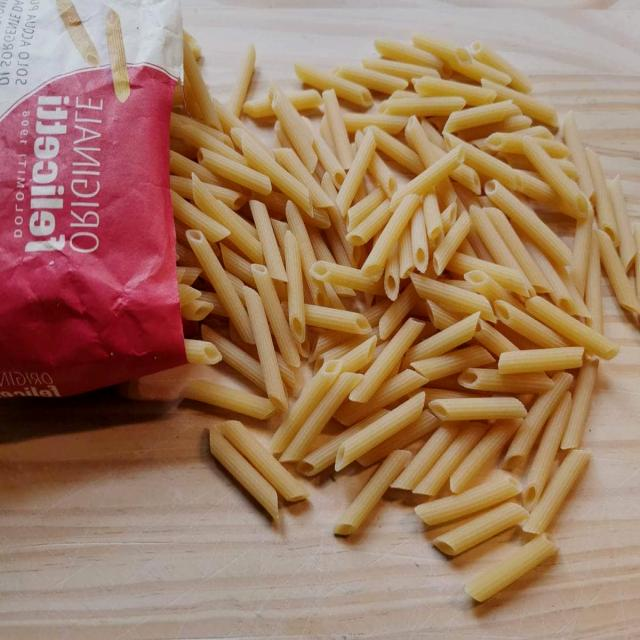pasta: (286, 120, 506, 440)
